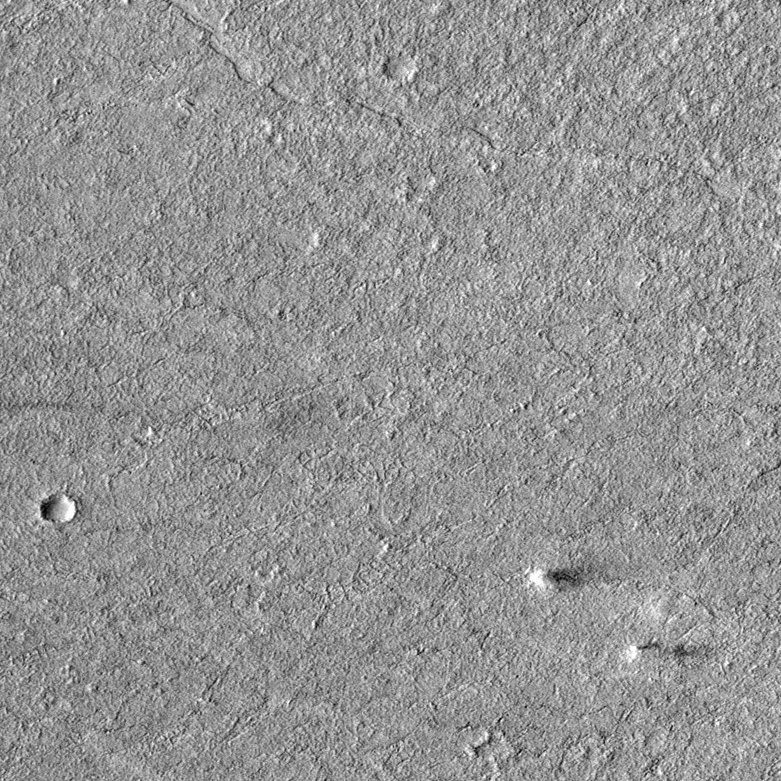dust_devil: (622, 642, 687, 666), (527, 564, 587, 589)
